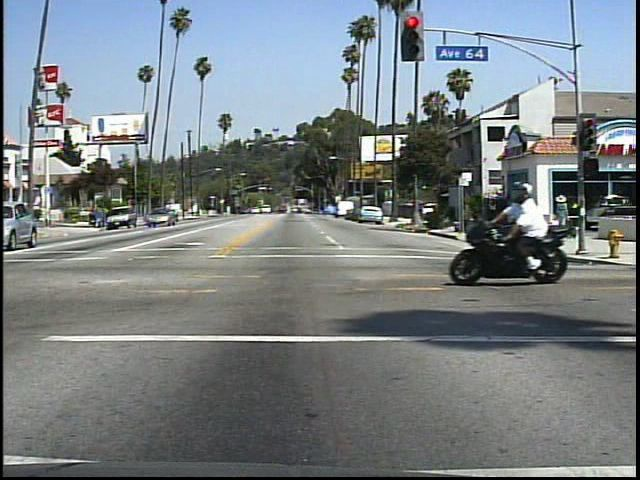person: (500, 176, 562, 281), (547, 191, 574, 244)
